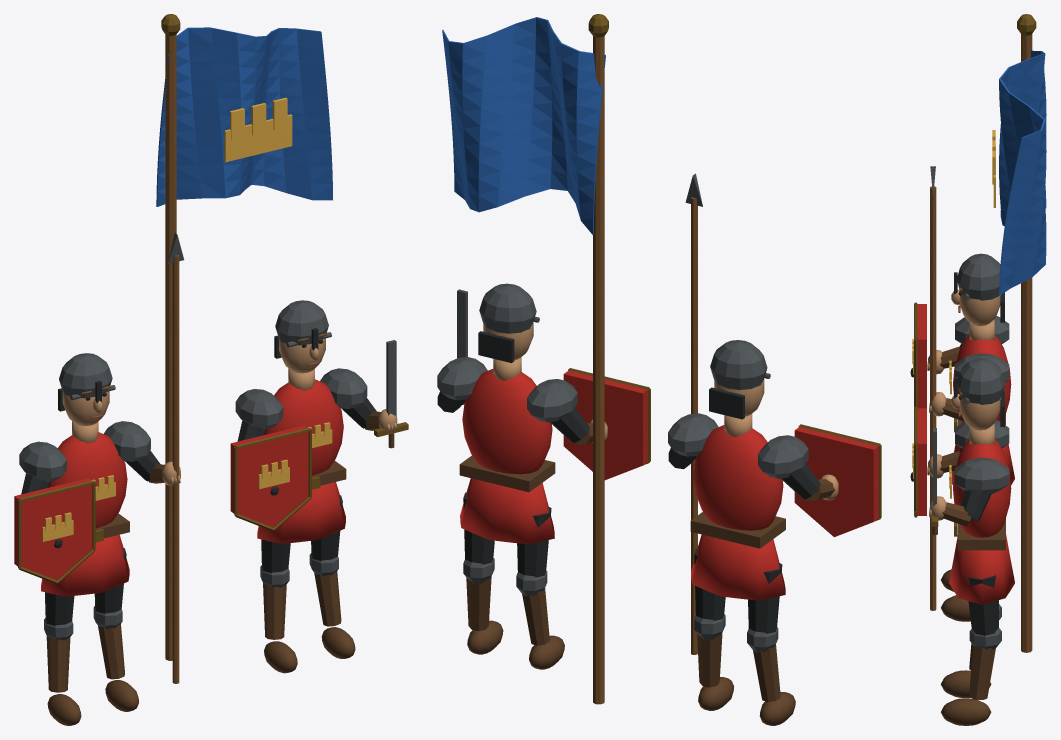
Rendered from SM_HuesteEstandarte_A_LOD0.fbx.
3 views of the same model, side by side, from view 1: azimuth 30°, elevation 25°; view 2: azimuth 150°, elevation 25°; view 3: azimuth 270°, elevation 25° (orthographic). The views are drawn at different scales.
Visible parts, largest first — view 1: SM_HuesteEstandarte_A_LOD0; view 2: SM_HuesteEstandarte_A_LOD0; view 3: SM_HuesteEstandarte_A_LOD0.
Boxes of the visible parts, x1,y1,x2,y2 form: SM_HuesteEstandarte_A_LOD0: [14, 14, 408, 725]; SM_HuesteEstandarte_A_LOD0: [437, 14, 881, 725]; SM_HuesteEstandarte_A_LOD0: [910, 14, 1046, 725].
Bounding box in the file's own units: 0.3572 × 0.5593 × 0.107.
Materials: 1 (1 with a texture image).
